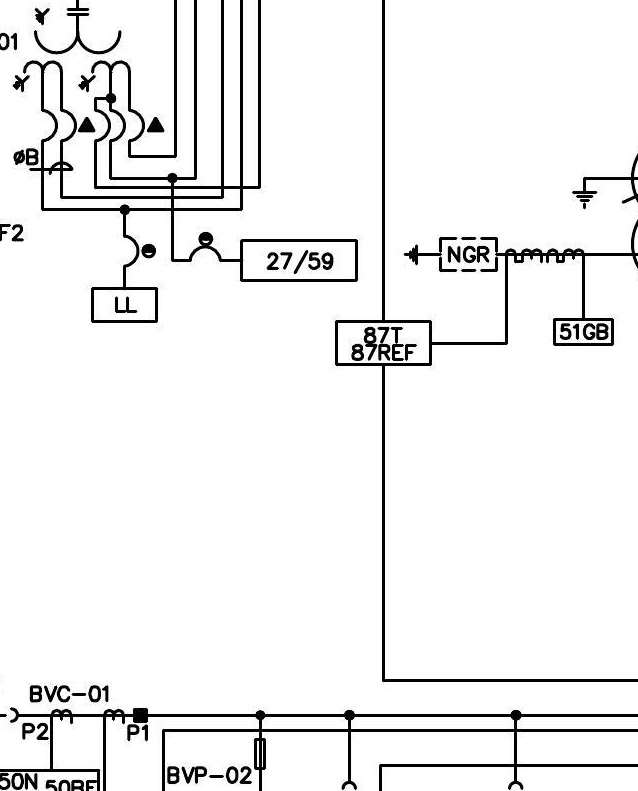115_cvt_3p: (12, 8, 132, 93)
LL: (91, 287, 158, 323)
NGR_future: (403, 236, 498, 273)
